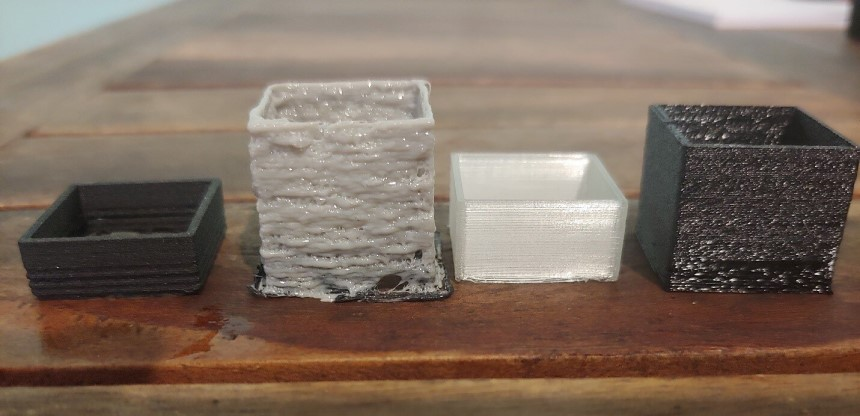blob: (258, 130, 421, 270), (692, 153, 835, 277)
